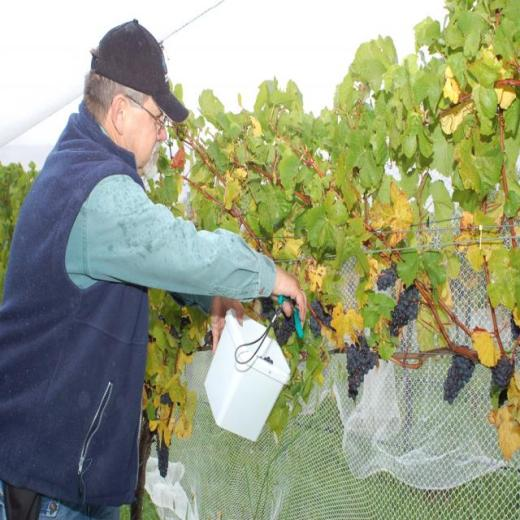Orange: (346, 335, 378, 402), (443, 347, 475, 405), (388, 283, 420, 336), (308, 298, 334, 338), (271, 315, 296, 346), (154, 431, 170, 477), (490, 358, 512, 389), (168, 316, 191, 340), (377, 263, 396, 290), (259, 295, 273, 312), (511, 314, 520, 338), (257, 355, 273, 365), (159, 394, 172, 406)
